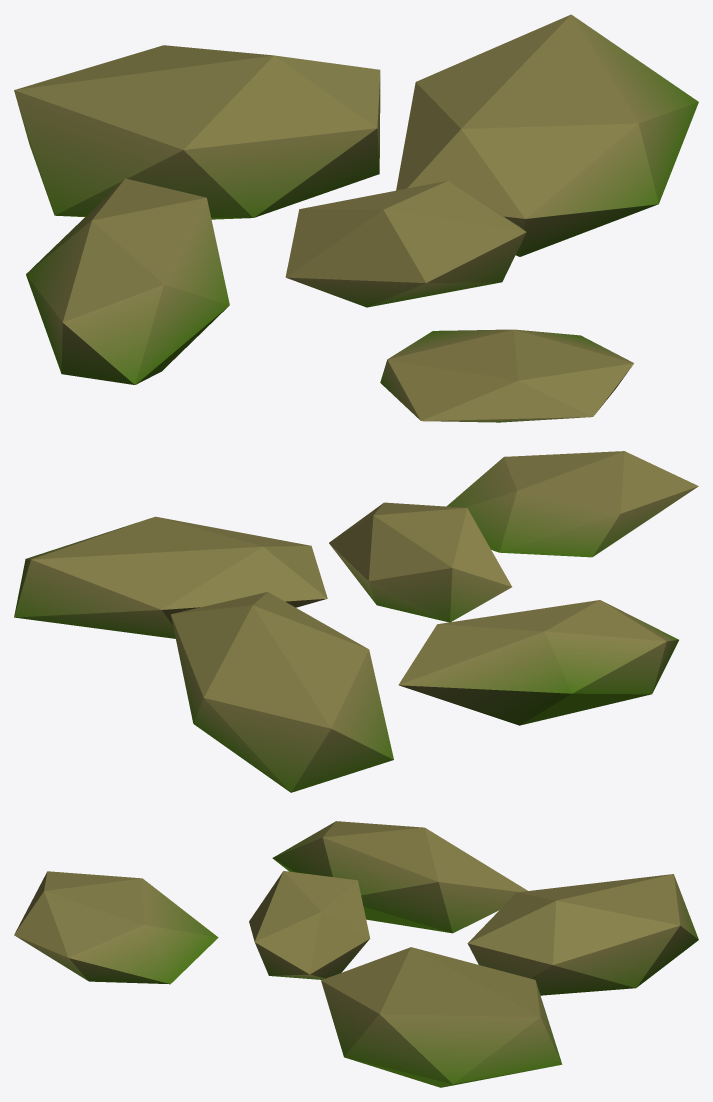
File: Rock_1.glb
3 views of the same model, one above another, from view 1: azimuth 30°, elevation 25°; view 2: azimuth 150°, elevation 25°; view 3: azimuth 270°, elevation 25° (orthographic). The views are drawn at different scales.
Parts seen in each view (by area): view 1: Rock_1; view 2: Rock_1; view 3: Rock_1.
Boxes of the visible parts, x1,y1,x2,y2 form: Rock_1: (14,14,698,422); Rock_1: (14,451,698,792); Rock_1: (14,821,698,1087).
Size of the model in its own units: 1.6 by 0.3462 by 1.83.
